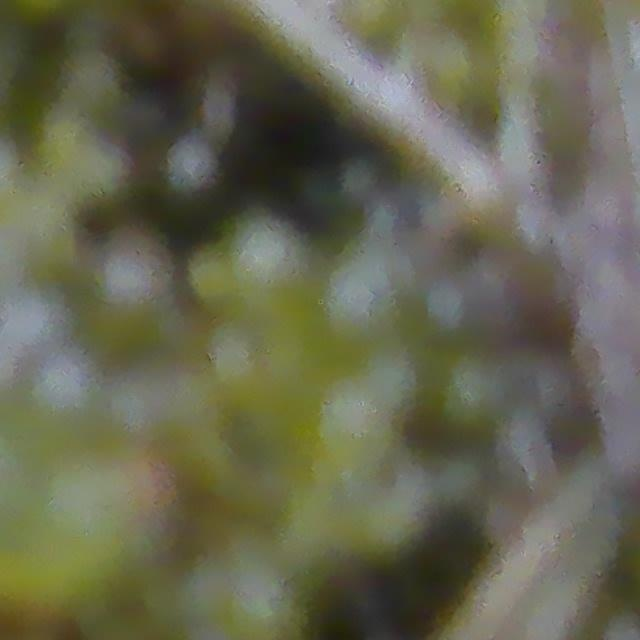SeaGrape: (316, 248, 406, 345), (223, 213, 309, 301), (92, 228, 174, 314), (436, 351, 512, 430), (27, 352, 99, 427), (163, 135, 220, 196), (188, 249, 239, 307)
